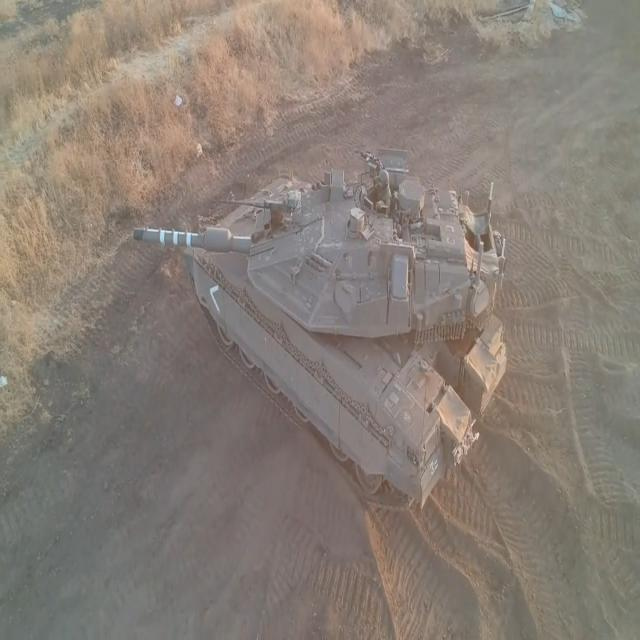tank: (127, 135, 537, 522)
